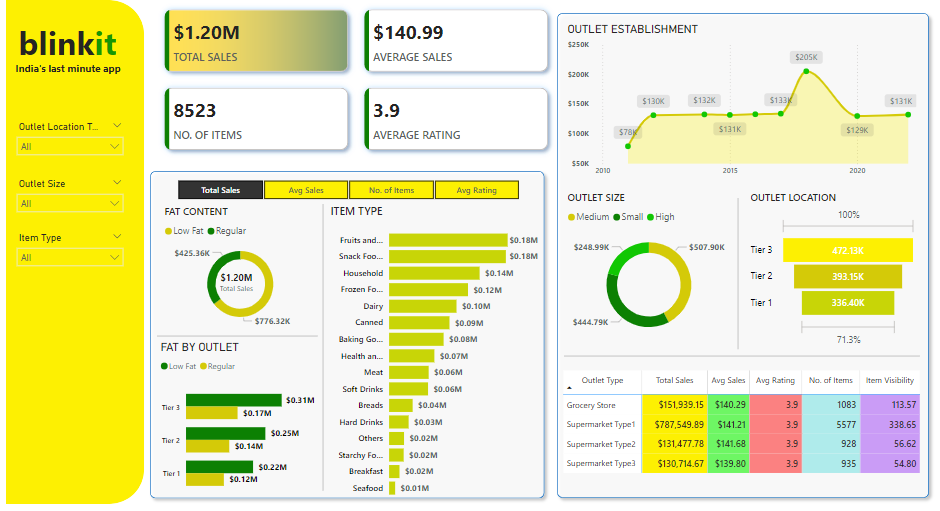

The dashboard page shown, as its layout file describes it:
{"tool":"powerbi","page":{"name":"Page 1","canvas":[1400,800],"ordinal":0},"visuals":[{"type":"shape","box":[12,27.1,204.7,746.7],"z":0},{"type":"textbox","box":[18.1,51.2,170.1,78.3],"z":1000},{"type":"textbox","box":[12,112.9,183.7,33.1],"z":2000},{"type":"cardVisual","fields":{"Data":["BlinkIT Grocery Data.Total Sales","BlinkIT Grocery Data.Avg Sales","BlinkIT Grocery Data.No. of Items","BlinkIT Grocery Data.Avg Rating"]},"box":[230.3,24.1,602.2,243.9],"z":3000},{"type":"shape","box":[216.8,271,602.2,502.8],"z":4000},{"type":"donutChart","title":"FAT CONTENT","fields":{"Y":["BlinkIT Grocery Data.Total Sales"],"Category":["BlinkIT Grocery Data.Item Fat Content"]},"box":[240.9,328.2,234.8,188.2],"z":5000},{"type":"slicer","fields":{"Values":["Metrics.Metrics"]},"box":[240.9,287.5,554,40.6],"z":6000},{"type":"cardVisual","fields":{"Data":["BlinkIT Grocery Data.Total Sales"]},"box":[307.1,412.5,93.3,61.7],"z":7000},{"type":"clusteredBarChart","title":"FAT BY OUTLET","fields":{"Y":["BlinkIT Grocery Data.Total Sales"],"Category":["BlinkIT Grocery Data.Outlet Location Type"],"Series":["BlinkIT Grocery Data.Item Fat Content"]},"box":[235.6,530.4,238.5,243],"z":8000},{"type":"shape","box":[234.8,517.8,237.8,12],"z":9000},{"type":"shape","box":[475.7,328.2,12,424.5],"z":10000},{"type":"barChart","title":"ITEM TYPE","fields":{"Y":["BlinkIT Grocery Data.Total Sales"],"Category":["BlinkIT Grocery Data.Item Type"]},"box":[487.7,328.2,317.6,445.6],"z":11000},{"type":"shape","box":[818.9,37.6,569,736.1],"z":12000},{"type":"lineChart","title":"OUTLET ESTABLISHMENT","fields":{"Y":["BlinkIT Grocery Data.Total Sales"],"Category":["BlinkIT Grocery Data.Outlet Establishment Year"]},"box":[838.5,58.7,526.9,237.8],"z":13000},{"type":"donutChart","title":"OUTLET SIZE","fields":{"Y":["BlinkIT Grocery Data.Total Sales"],"Category":["BlinkIT Grocery Data.Outlet Size"]},"box":[838.5,308.6,251.4,231.8],"z":14000},{"type":"shape","box":[1089.9,320.6,12,224.3],"z":15000},{"type":"funnel","title":"OUTLET LOCATION","fields":{"Y":["Sum(BlinkIT Grocery Data.Sales)"],"Category":["BlinkIT Grocery Data.Outlet Location Type"]},"box":[1109.5,308.6,255.9,236.3],"z":16000},{"type":"pivotTable","fields":{"Rows":["BlinkIT Grocery Data.Outlet Type"],"Values":["BlinkIT Grocery Data.Total Sales","BlinkIT Grocery Data.Avg Sales","BlinkIT Grocery Data.Avg Rating","BlinkIT Grocery Data.No. of Items","Sum(BlinkIT Grocery Data.Item Visibility)"]},"box":[832.5,570.5,544.9,170.1],"z":17000},{"type":"shape","box":[838.5,548,526.9,12],"z":18000},{"type":"slicer","fields":{"Values":["BlinkIT Grocery Data.Outlet Location Type"]},"box":[18.1,201.7,177.6,69.2],"z":19000},{"type":"slicer","fields":{"Values":["BlinkIT Grocery Data.Outlet Size"]},"box":[18.1,286,177.6,69.2],"z":20000},{"type":"slicer","fields":{"Values":["BlinkIT Grocery Data.Item Type"]},"box":[18.1,365.8,177.6,69.2],"z":21000}]}

Visuals, with their boxes on the page's 1400x800 design canvas (x1, y1, x2, y2). These are canvas units, not pixel positions in the 940x511 screenshot, which may show the page scaled, cropped or inside an application window:
shape: <box>12,27,217,774</box>
textbox: <box>18,51,188,130</box>
textbox: <box>12,113,196,146</box>
cardVisual - BlinkIT Grocery Data.Total Sales x BlinkIT Grocery Data.Avg Sales: <box>230,24,832,268</box>
shape: <box>217,271,819,774</box>
"FAT CONTENT" donutChart: <box>241,328,476,516</box>
slicer - Metrics.Metrics: <box>241,288,795,328</box>
cardVisual - BlinkIT Grocery Data.Total Sales: <box>307,412,400,474</box>
"FAT BY OUTLET" clusteredBarChart: <box>236,530,474,773</box>
shape: <box>235,518,473,530</box>
shape: <box>476,328,488,753</box>
"ITEM TYPE" barChart: <box>488,328,805,774</box>
shape: <box>819,38,1388,774</box>
"OUTLET ESTABLISHMENT" lineChart: <box>838,59,1365,296</box>
"OUTLET SIZE" donutChart: <box>838,309,1090,540</box>
shape: <box>1090,321,1102,545</box>
"OUTLET LOCATION" funnel: <box>1110,309,1365,545</box>
pivotTable - BlinkIT Grocery Data.Outlet Type x BlinkIT Grocery Data.Total Sales: <box>832,570,1377,741</box>
shape: <box>838,548,1365,560</box>
slicer - BlinkIT Grocery Data.Outlet Location Type: <box>18,202,196,271</box>
slicer - BlinkIT Grocery Data.Outlet Size: <box>18,286,196,355</box>
slicer - BlinkIT Grocery Data.Item Type: <box>18,366,196,435</box>
